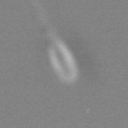normal: (27, 1, 57, 40)
